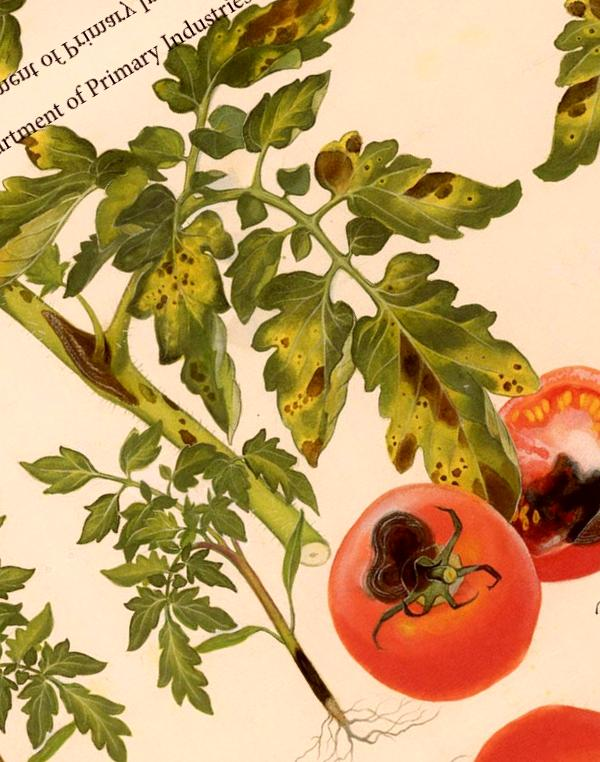Tomato Early blight leaf: (328, 224, 600, 544), (282, 53, 542, 305), (90, 193, 295, 443), (216, 258, 404, 465), (0, 105, 135, 341), (148, 0, 374, 127)
